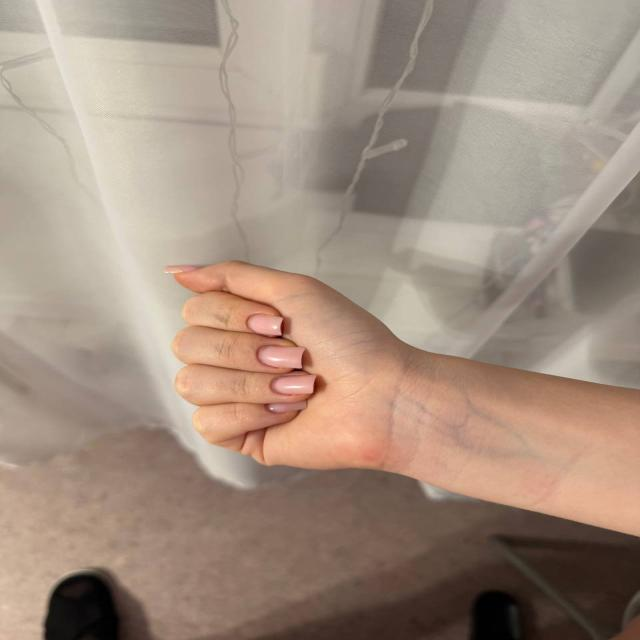a: (171, 244, 398, 484)
